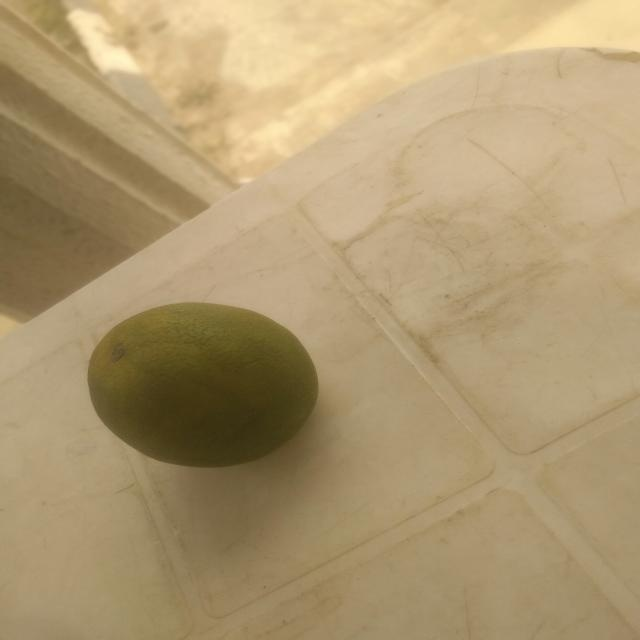agrume: (81, 296, 329, 480)
